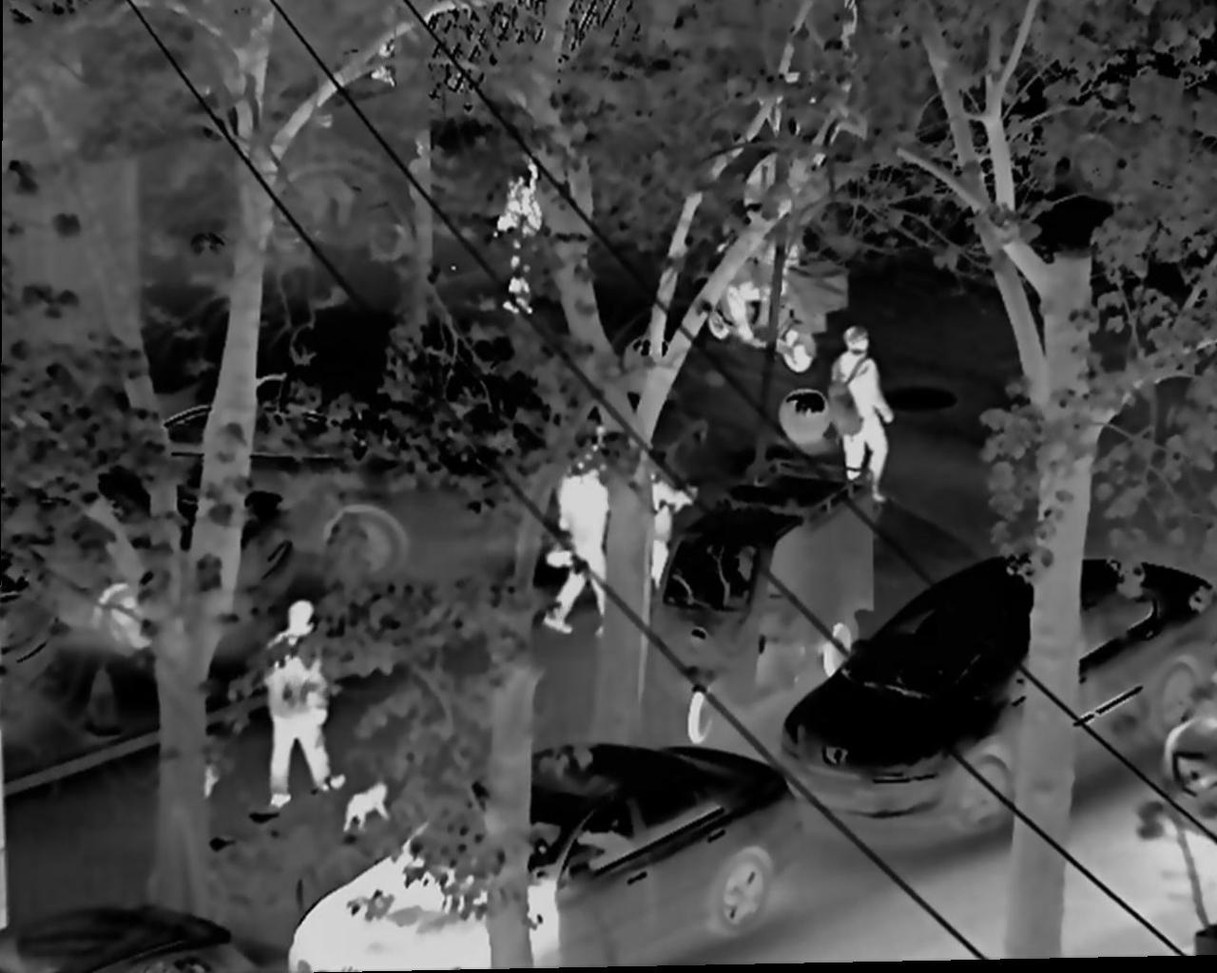person: (251, 594, 347, 810), (547, 432, 625, 658), (823, 327, 902, 517), (620, 447, 696, 615), (746, 185, 810, 355), (494, 153, 547, 318)
